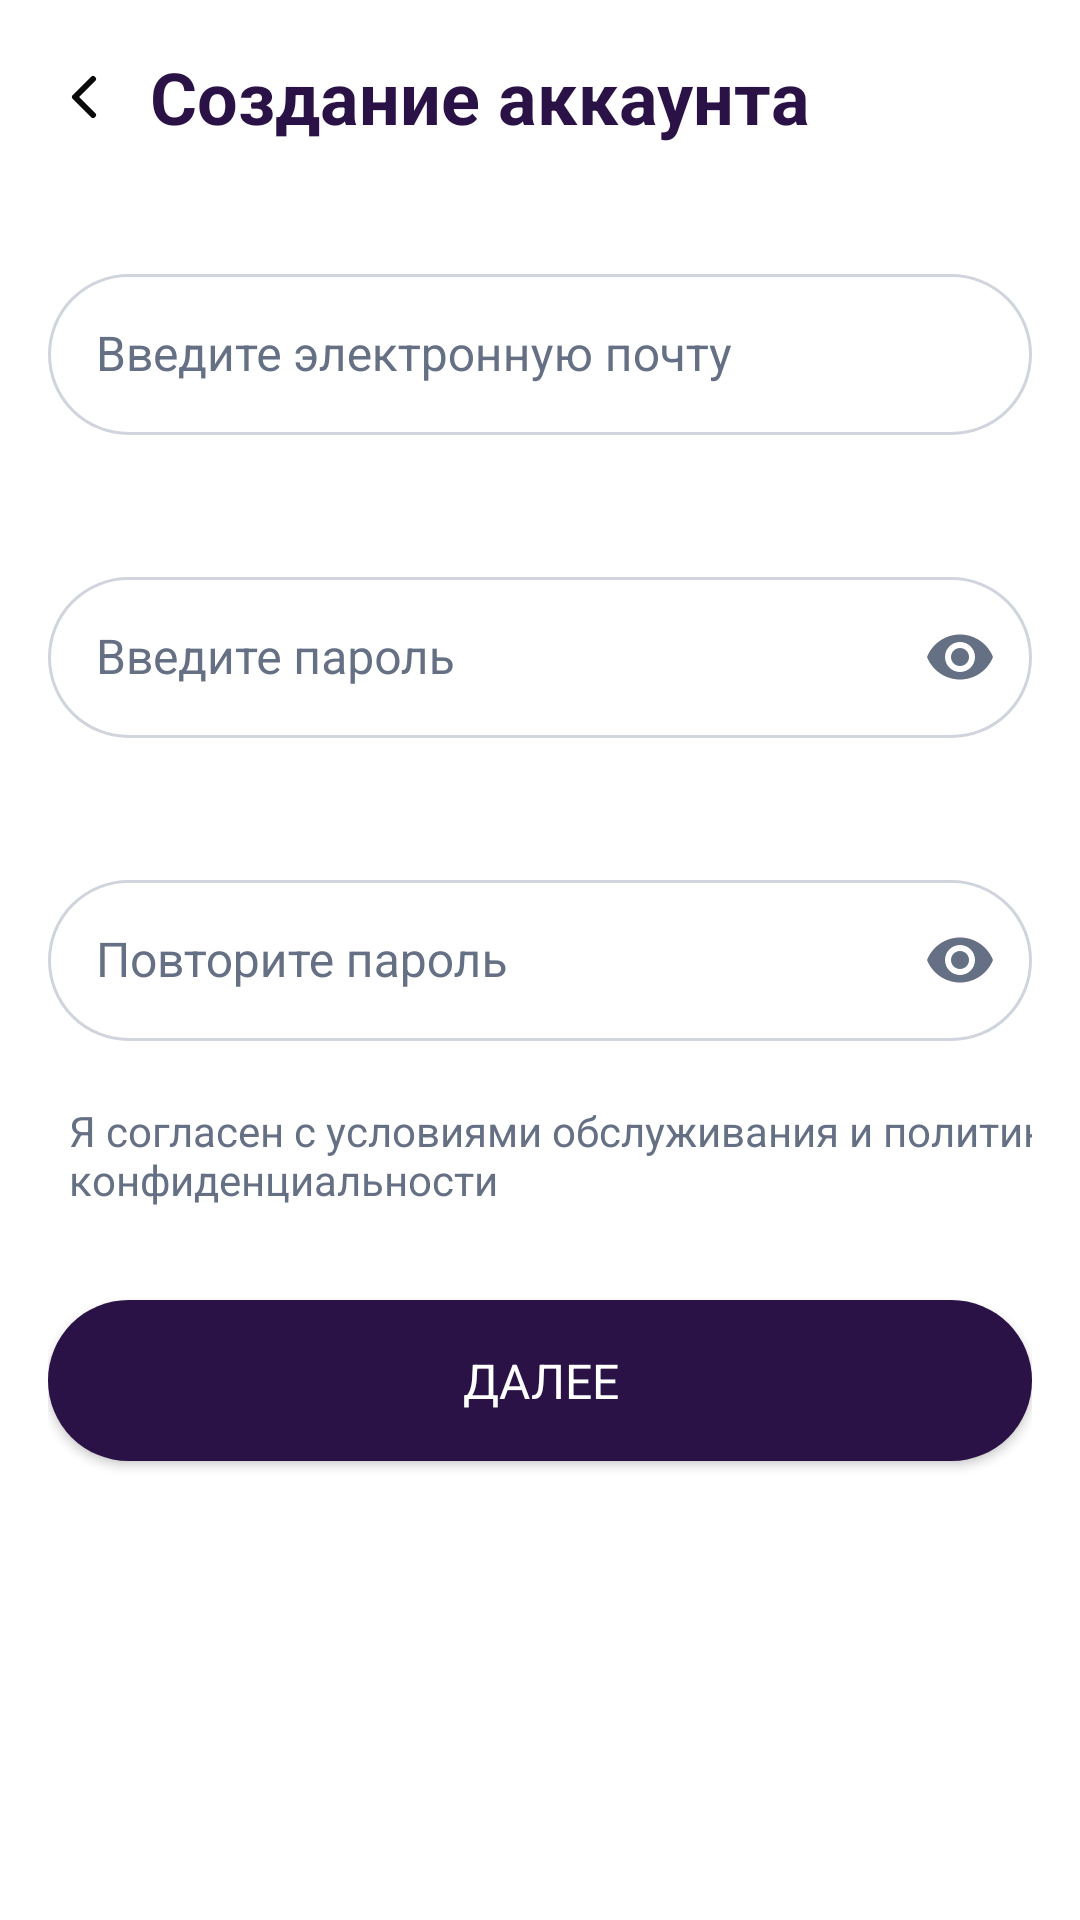

Where icons sit on this 1080 x 1920 app screen, as box(x1, y1, x2, y2):
chevron left: box(72, 76, 96, 118)
